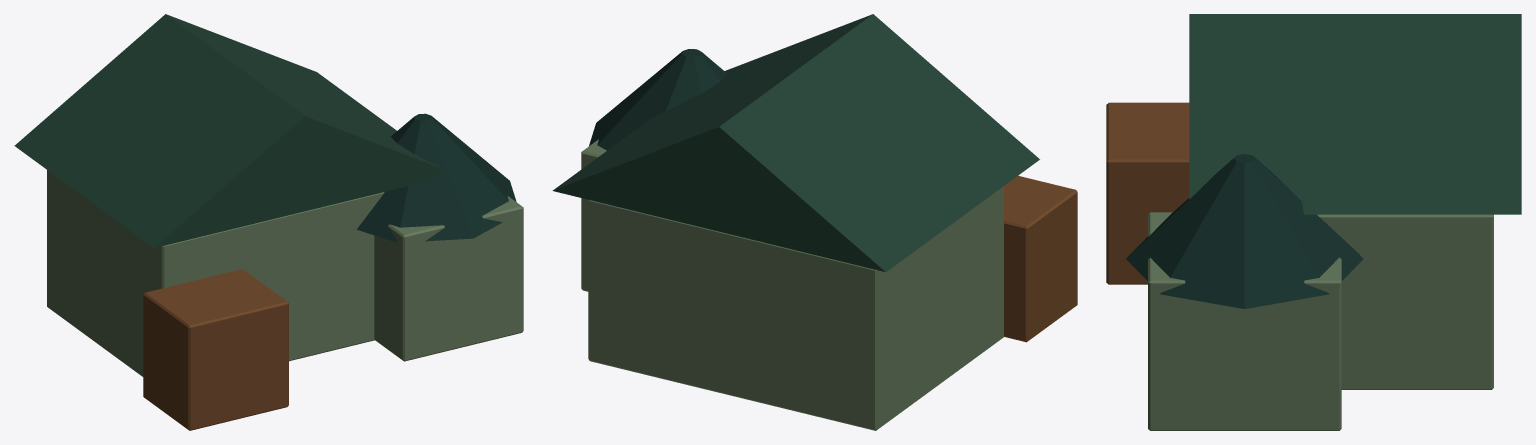
The model's file is LumenCroftCottageBV2.glb.
The picture shows the model from 3 angles, left to right: view 1: azimuth 30°, elevation 25°; view 2: azimuth 150°, elevation 25°; view 3: azimuth 270°, elevation 25°; orthographic projection. The views are drawn at different scales.
Parts seen in each view (by area): view 1: LumenCroftCottageBV2; view 2: LumenCroftCottageBV2; view 3: LumenCroftCottageBV2.
Part boxes in pixels (box(x1,y1,x2,y2)): LumenCroftCottageBV2: box(14, 14, 523, 430); LumenCroftCottageBV2: box(552, 14, 1077, 430); LumenCroftCottageBV2: box(1106, 14, 1521, 430).
Bounding box in the file's own units: 18.8 × 12 × 15.
1 material, 1 textured.
